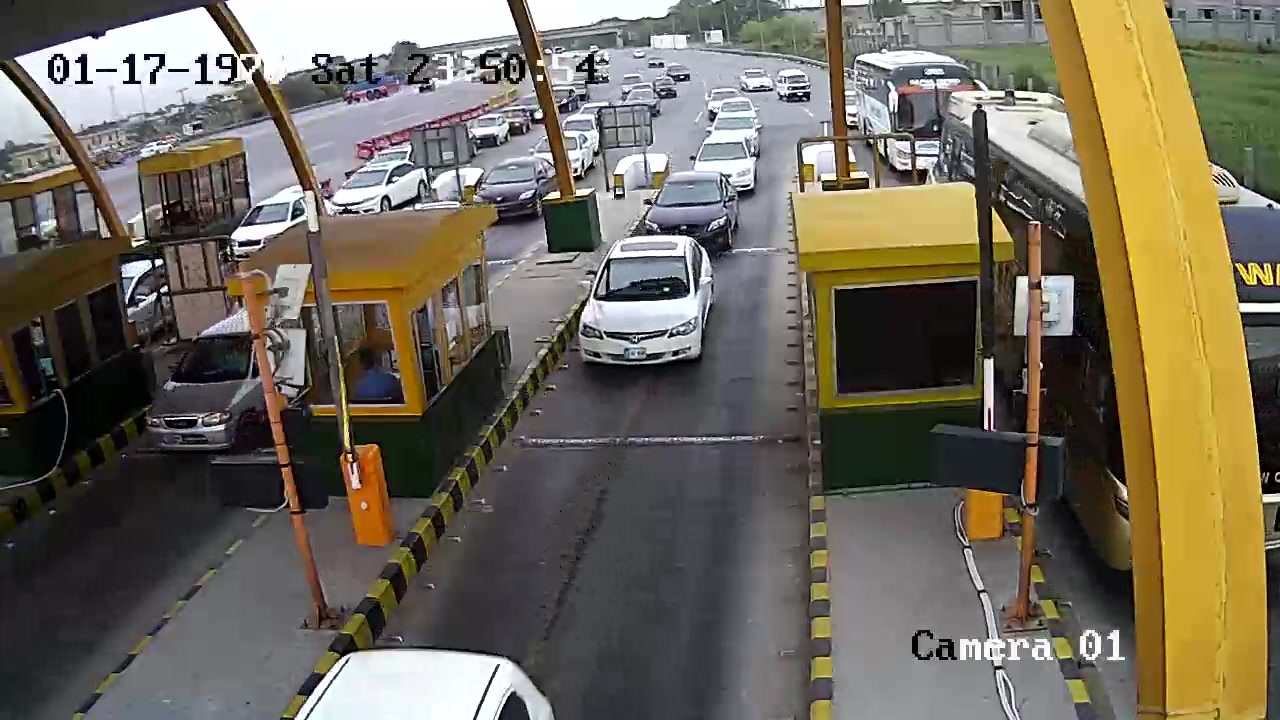F1: (566, 237, 722, 384)
